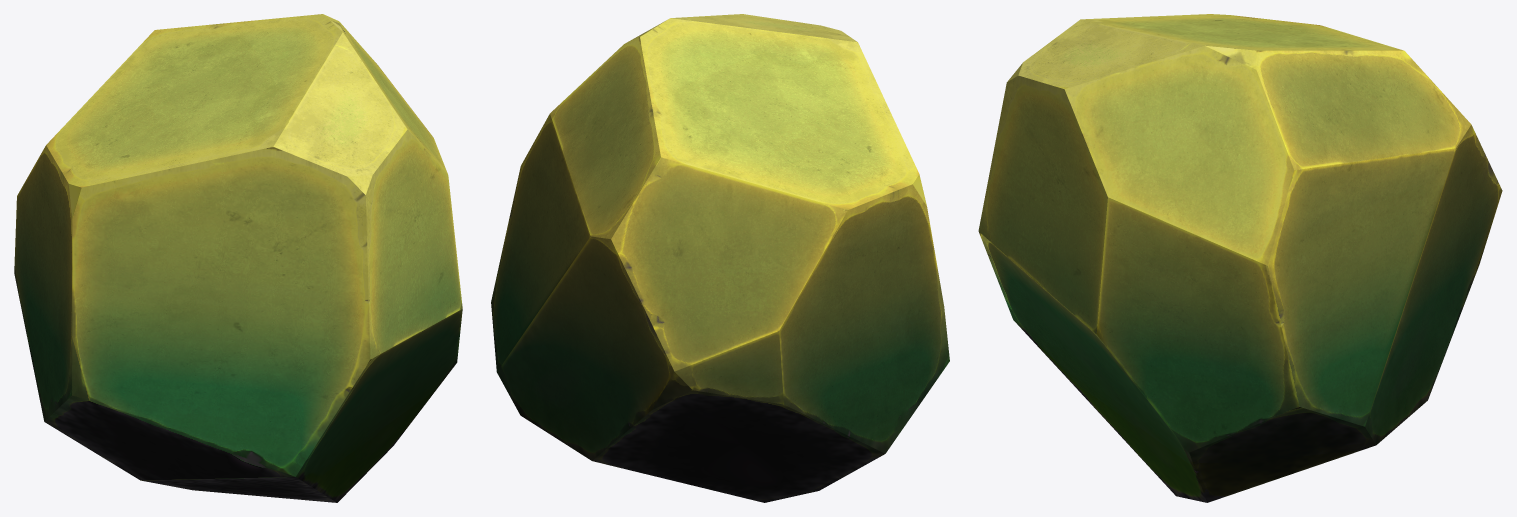
Rendered from rock.gltf.
3 views of the same model, side by side, from view 1: azimuth 30°, elevation 25°; view 2: azimuth 150°, elevation 25°; view 3: azimuth 270°, elevation 25° (orthographic). The views are drawn at different scales.
Parts seen in each view (by area): view 1: Object_28; view 2: Object_28; view 3: Object_28.
Boxes of the visible parts, left/top/right/bottom form: Object_28: left=14, top=14, right=462, bottom=502; Object_28: left=491, top=14, right=949, bottom=502; Object_28: left=978, top=14, right=1502, bottom=502.
Bounding box in the file's own units: 1.2 × 1.26 × 1.3.
1 material, 1 textured.
